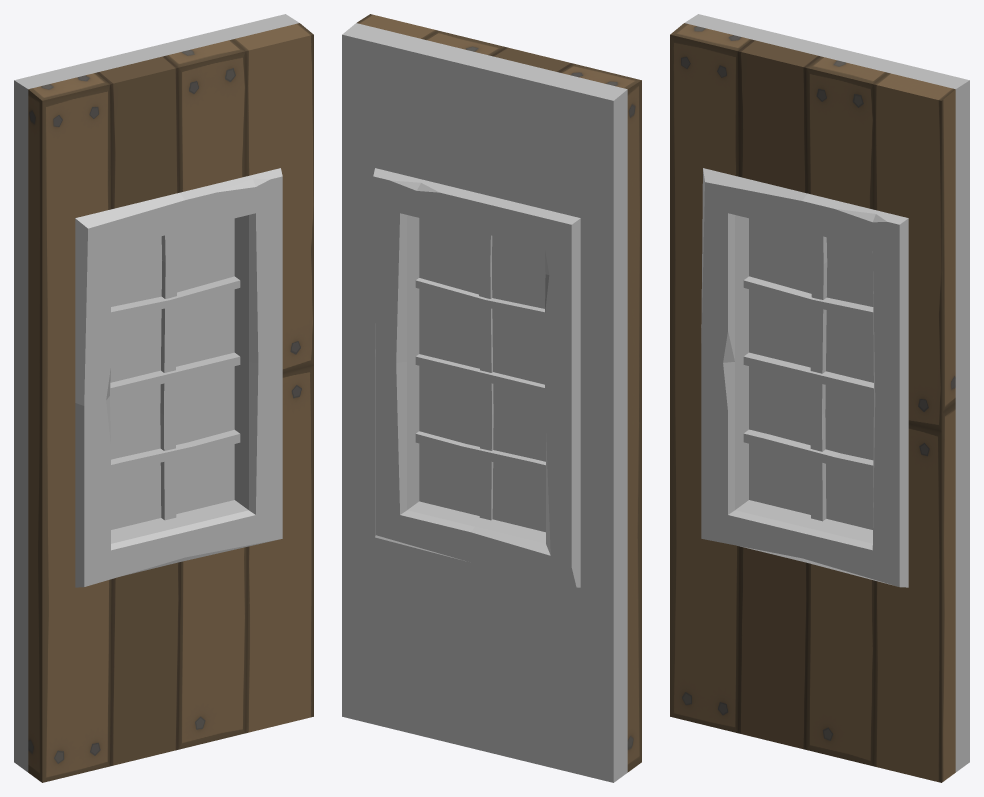
Rendered from SM_Bld_Wall_Window_03_Half_01.fbx.
3 views of the same model, side by side, from view 1: azimuth 30°, elevation 25°; view 2: azimuth 150°, elevation 25°; view 3: azimuth 330°, elevation 25° (orthographic).
Visible parts, largest first — view 1: SM_Bld_Wall_Window_03_Half_01, SM_Bld_Wall_Window_03_Half_Glass_01; view 2: SM_Bld_Wall_Window_03_Half_01, SM_Bld_Wall_Window_03_Half_Glass_01; view 3: SM_Bld_Wall_Window_03_Half_01, SM_Bld_Wall_Window_03_Half_Glass_01.
Boxes of the visible parts, x1,y1,x2,y2 form: SM_Bld_Wall_Window_03_Half_01: (14,14,313,782); SM_Bld_Wall_Window_03_Half_Glass_01: (110,218,234,529); SM_Bld_Wall_Window_03_Half_01: (342,14,641,782); SM_Bld_Wall_Window_03_Half_Glass_01: (419,218,545,532); SM_Bld_Wall_Window_03_Half_01: (670,14,969,782); SM_Bld_Wall_Window_03_Half_Glass_01: (749,218,873,529).
Size of the model in its own units: 125 by 301 by 31.15.
